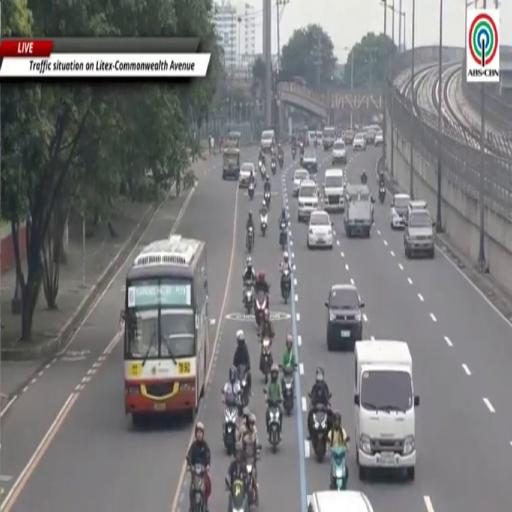bus: (122, 235, 210, 424)
car: (325, 284, 364, 350), (404, 210, 435, 259), (308, 490, 373, 511), (307, 210, 333, 248), (297, 179, 319, 222), (324, 169, 345, 211), (391, 194, 410, 229), (293, 169, 309, 197), (407, 200, 427, 220), (332, 139, 347, 165), (239, 163, 255, 187), (261, 130, 275, 154), (301, 155, 318, 173), (323, 127, 335, 150), (352, 133, 366, 150), (343, 130, 355, 145), (374, 131, 383, 146), (316, 131, 323, 145), (309, 131, 315, 145)
jeepney: (222, 148, 240, 180), (224, 132, 241, 150)
motorcycle: (222, 390, 241, 455), (244, 443, 261, 507), (264, 390, 281, 453), (311, 405, 328, 461), (188, 460, 206, 511), (280, 365, 296, 415), (330, 446, 347, 490), (228, 479, 249, 511), (259, 338, 273, 383), (237, 365, 250, 407), (254, 292, 268, 327), (244, 281, 253, 314), (282, 267, 290, 303), (279, 222, 287, 250), (246, 227, 254, 253), (260, 212, 267, 236), (263, 190, 271, 209), (379, 185, 386, 203), (248, 183, 254, 200), (260, 164, 266, 179), (271, 160, 276, 174), (361, 173, 367, 184), (279, 154, 283, 168), (292, 147, 296, 160), (300, 143, 304, 156), (300, 154, 303, 166), (314, 138, 317, 148)
truck: (354, 340, 419, 481), (344, 184, 374, 237)
